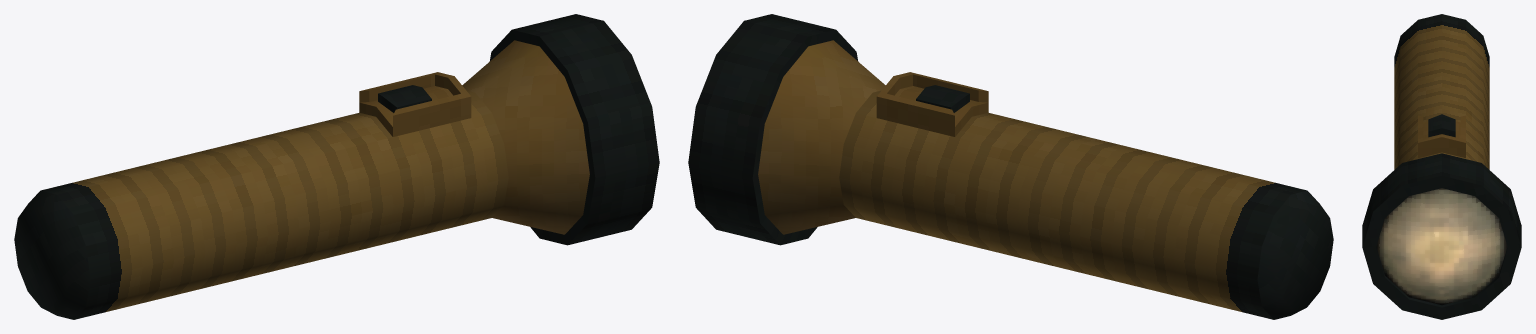
File: flashlight_mp_1.glb
3 renders of one model, left to right at view 1: azimuth 30°, elevation 25°; view 2: azimuth 150°, elevation 25°; view 3: azimuth 270°, elevation 25°, orthographic. The views are drawn at different scales.
Visible parts, largest first — view 1: flashlight_mp_1; view 2: flashlight_mp_1; view 3: flashlight_mp_1.
Boxes of the visible parts, left/top/right/bottom form: flashlight_mp_1: left=14, top=14, right=659, bottom=319; flashlight_mp_1: left=688, top=14, right=1333, bottom=319; flashlight_mp_1: left=1362, top=14, right=1521, bottom=319.
Size of the model in its own units: 0.2327 by 0.078 by 0.078.
1 material, 1 textured.
